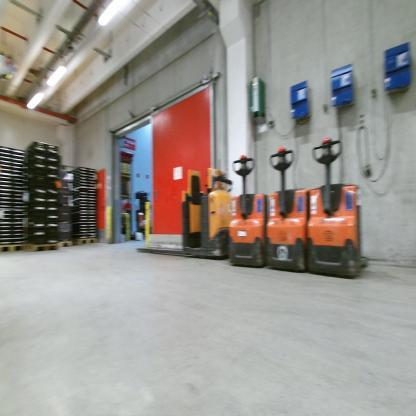pallets: (0, 236, 98, 254)
